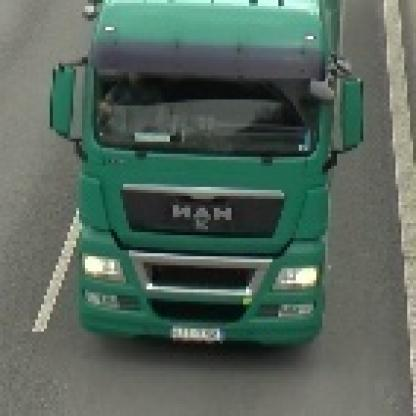truck: (48, 1, 361, 351)
